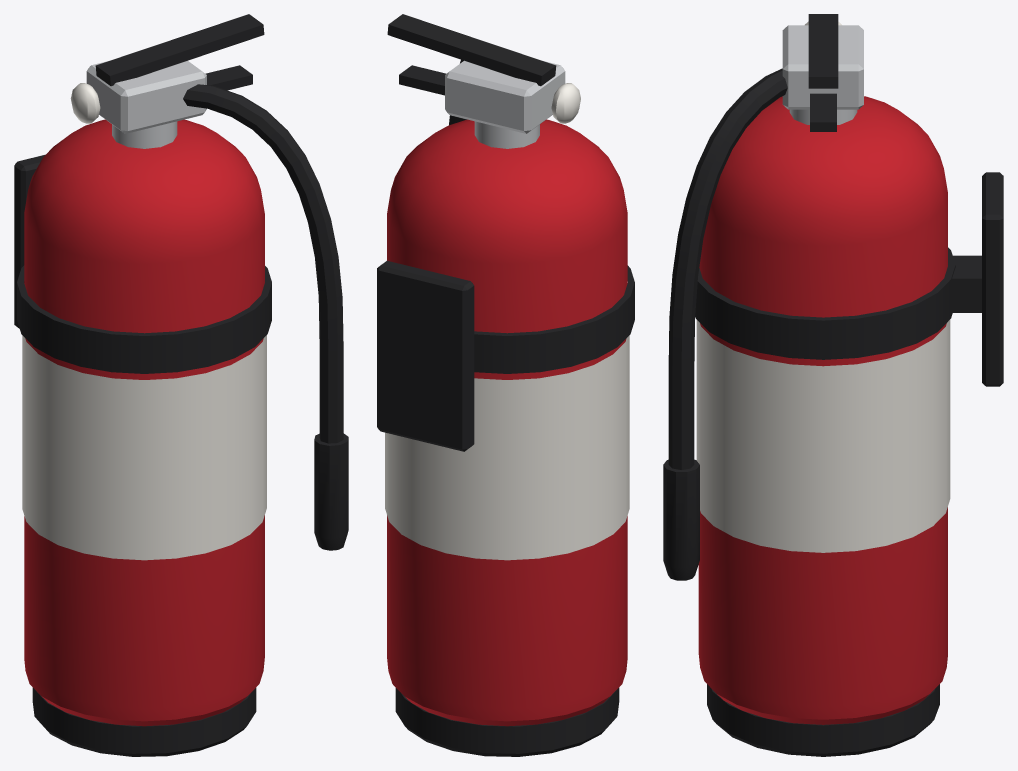
The model's file is fire_extinguisher.glb.
The picture shows the model from 3 angles, left to right: view 1: azimuth 30°, elevation 25°; view 2: azimuth 150°, elevation 25°; view 3: azimuth 270°, elevation 25°; orthographic projection. The views are drawn at different scales.
Visible parts, largest first — view 1: fire_extinguisher, bracket; view 2: fire_extinguisher, bracket; view 3: fire_extinguisher, bracket.
Boxes of the visible parts, box(x1,y1,x2,y2) form: fire_extinguisher: box(22, 14, 348, 756); bracket: box(14, 154, 271, 373); fire_extinguisher: box(385, 14, 629, 756); bracket: box(377, 260, 634, 451); fire_extinguisher: box(663, 14, 950, 756); bracket: box(695, 172, 1003, 386).
Bounding box in the file's own units: 0.215 × 0.5608 × 0.2512.
